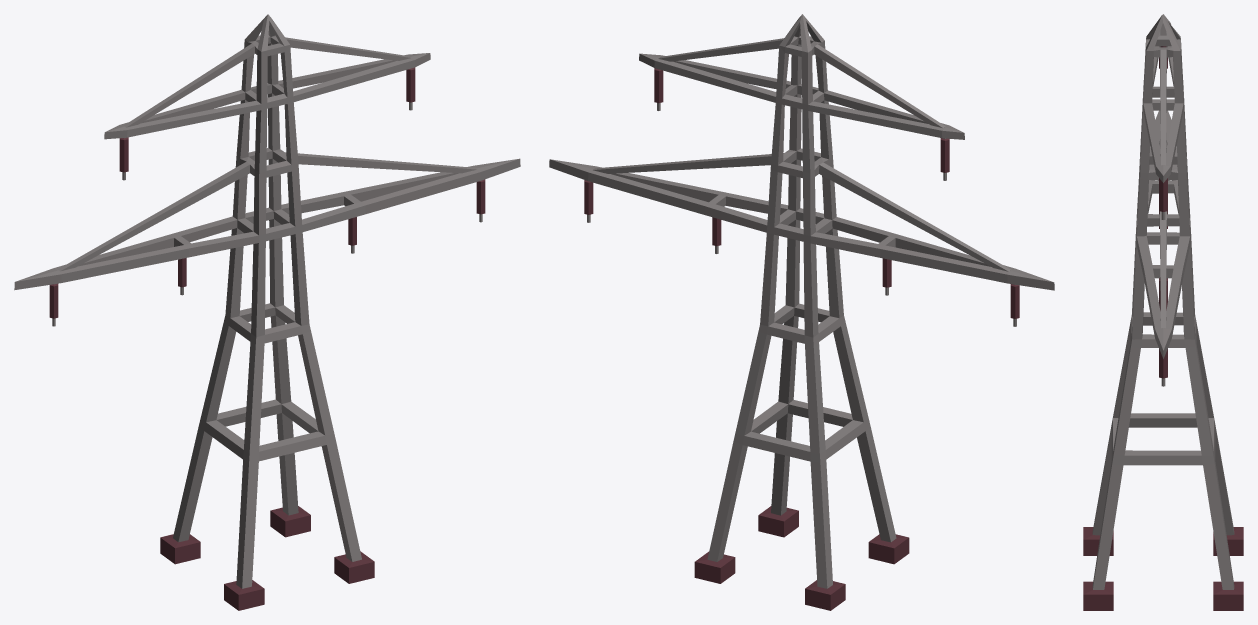
Rendered from power_line_pole.fbx.
3 views of the same model, side by side, from view 1: azimuth 30°, elevation 25°; view 2: azimuth 150°, elevation 25°; view 3: azimuth 270°, elevation 25° (orthographic). The views are drawn at different scales.
Parts seen in each view (by area): view 1: power_line_pole; view 2: power_line_pole; view 3: power_line_pole.
Part boxes in pixels (x1,y1,x2,y2): power_line_pole: [14, 14, 520, 610]; power_line_pole: [549, 14, 1054, 610]; power_line_pole: [1083, 14, 1243, 610].
Bounding box in the file's own units: 13.77 × 14.35 × 3.7.
